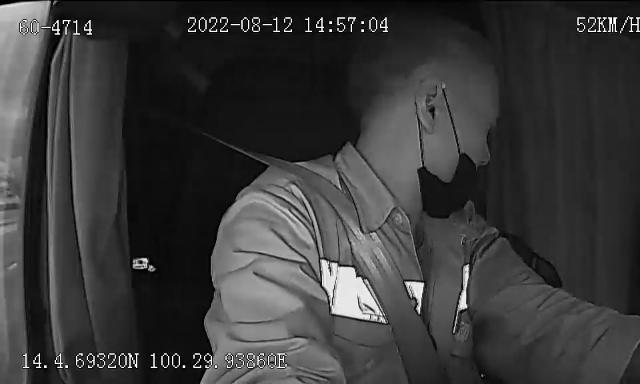Seatbelt: (208, 134, 440, 384)
